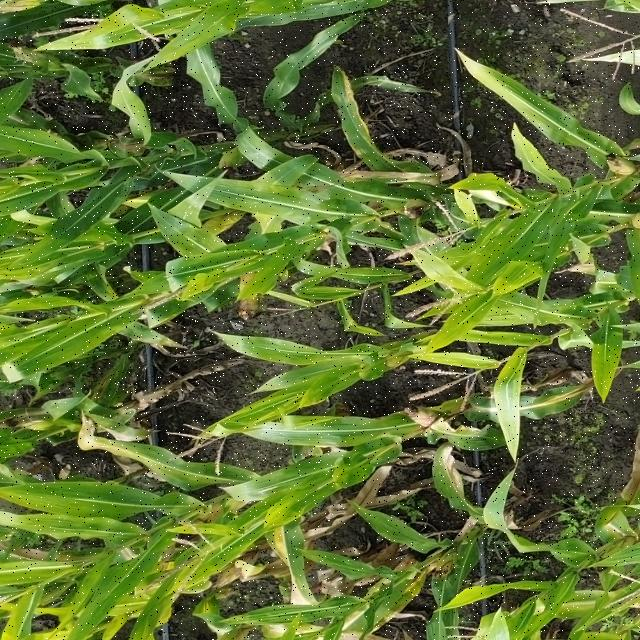gray-leaf-spot: (227, 129, 336, 226), (322, 67, 406, 160)
northern-leaf-blight: (58, 421, 251, 482), (258, 518, 338, 615)
